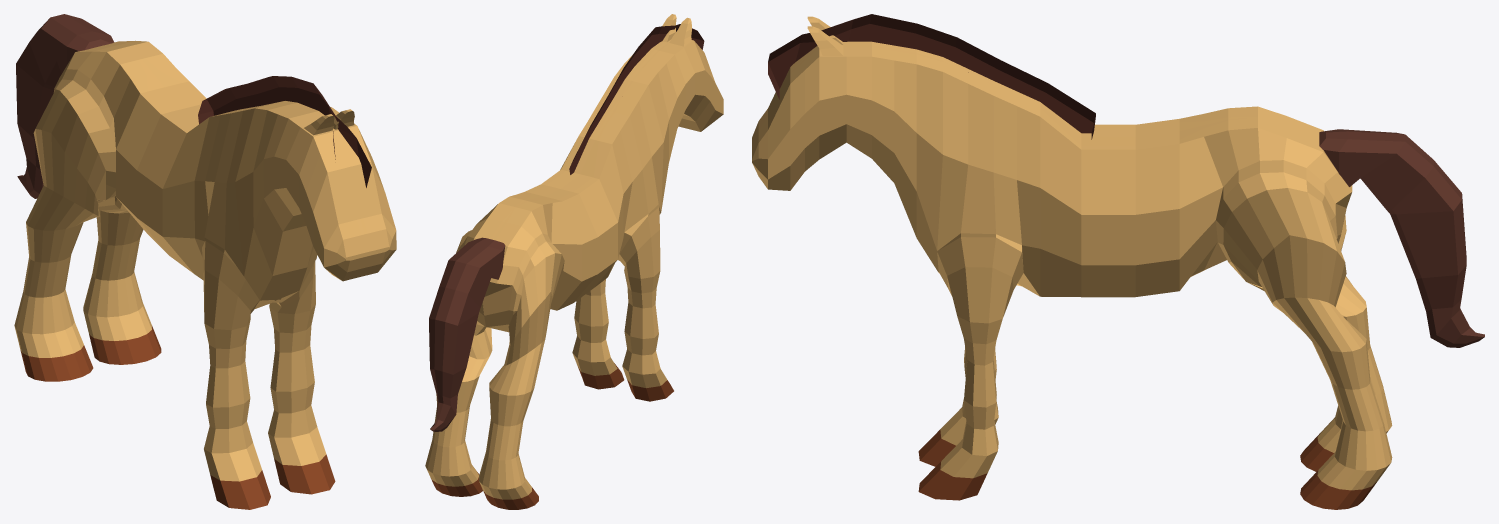
File: horse.fbx
3 views of the same model, side by side, from view 1: azimuth 30°, elevation 25°; view 2: azimuth 150°, elevation 25°; view 3: azimuth 270°, elevation 25° (orthographic). The views are drawn at different scales.
Parts seen in each view (by area): view 1: Plane, Cube; view 2: Plane, Cube; view 3: Plane, Cube.
Boxes of the visible parts, x1=… form: Plane: x1=14, y1=40, x2=396, y2=509; Cube: x1=16, y1=14, x2=371, y2=198; Plane: x1=425, y1=14, x2=723, y2=509; Cube: x1=429, y1=24, x2=704, y2=431; Plane: x1=752, y1=16, x2=1392, y2=509; Cube: x1=768, y1=14, x2=1484, y2=347.
Size of the model in its own units: 75.99 by 249 by 357.
